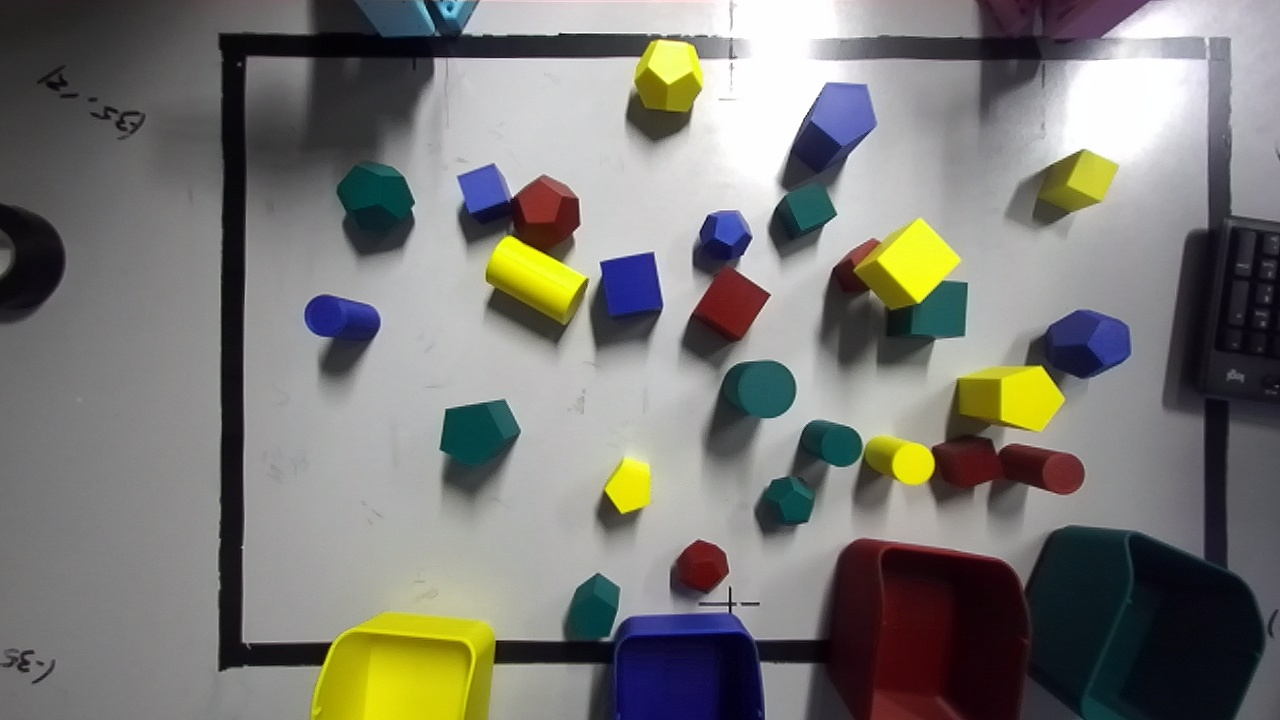bin: (1030, 527, 1264, 719), (828, 539, 1028, 719), (310, 612, 495, 719), (613, 615, 763, 719)
cube: (854, 218, 959, 308), (691, 265, 769, 340), (1037, 150, 1117, 211), (886, 280, 967, 337), (600, 252, 662, 317), (931, 435, 1001, 487), (772, 184, 836, 237), (457, 163, 511, 222)
cylinder: (485, 235, 587, 325), (999, 444, 1084, 494), (721, 360, 795, 417), (304, 294, 380, 341), (864, 435, 934, 484), (800, 420, 862, 466)
dodecahedron: (1044, 310, 1130, 377), (511, 175, 579, 250), (634, 39, 702, 111), (336, 161, 414, 218), (672, 539, 728, 592), (699, 210, 752, 260), (761, 476, 814, 524)
hexagonal: (791, 82, 876, 173), (956, 366, 1063, 430), (440, 399, 520, 465), (566, 573, 619, 639), (604, 457, 650, 513)
